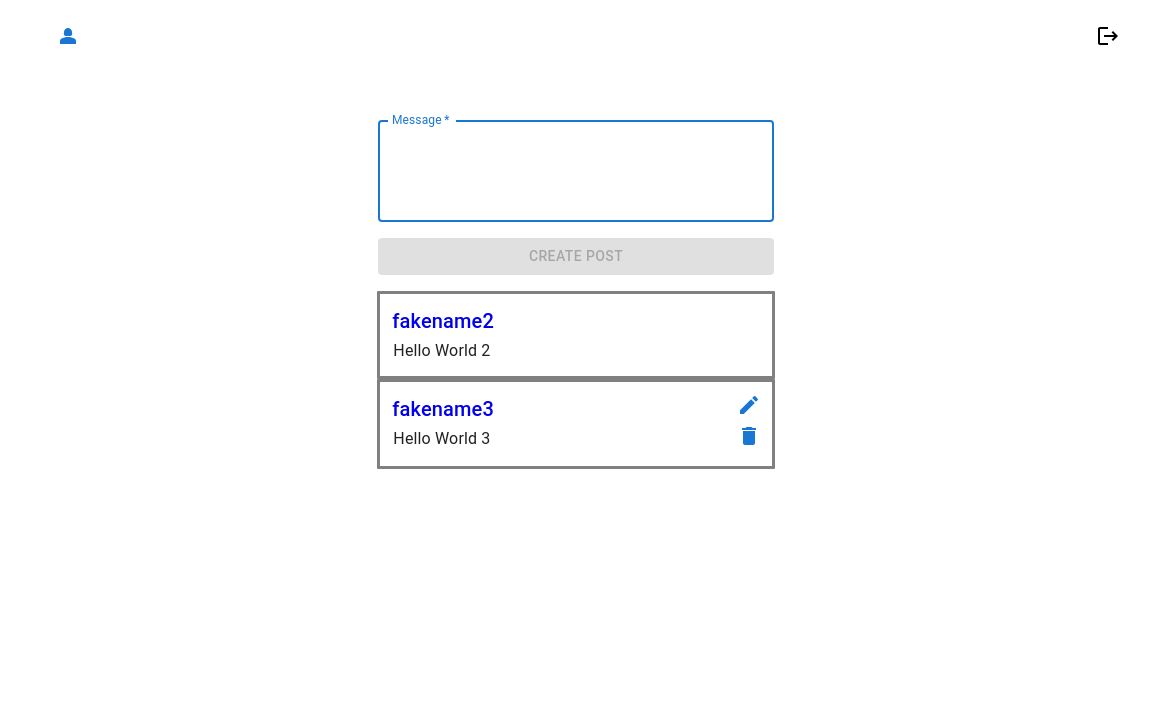
Scenario: Update Post › should not allow an edit to be submitted if the text area is empty
Step 1. Click the link named "edit-icon" → click(749, 408), box [737,393,761,424]
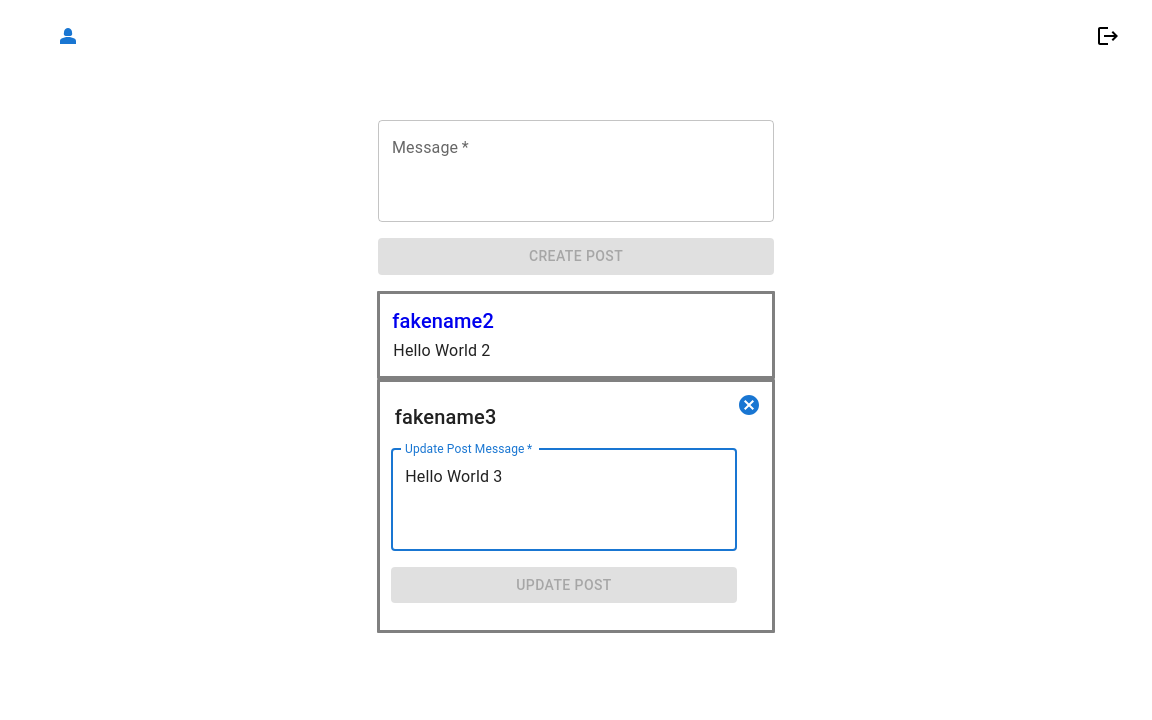
Expected: the button "Update Post" is disabled, [391,567,737,603]
